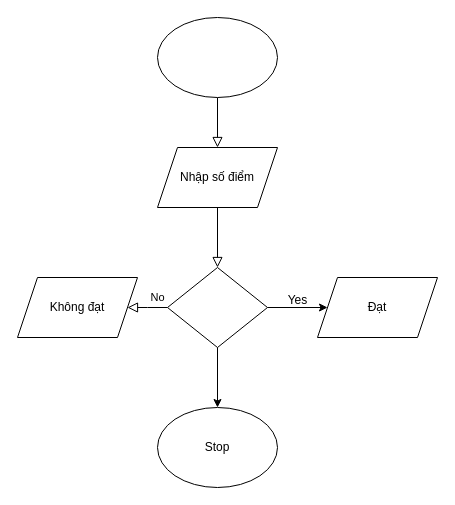
This 455x505 diagram has some shape labels left out. Here are the shapes that lost their labels. From the top down, the centre of each, then its label:
At point (217, 57): "Start".
At point (217, 307): "Điểm > 5 ?".
